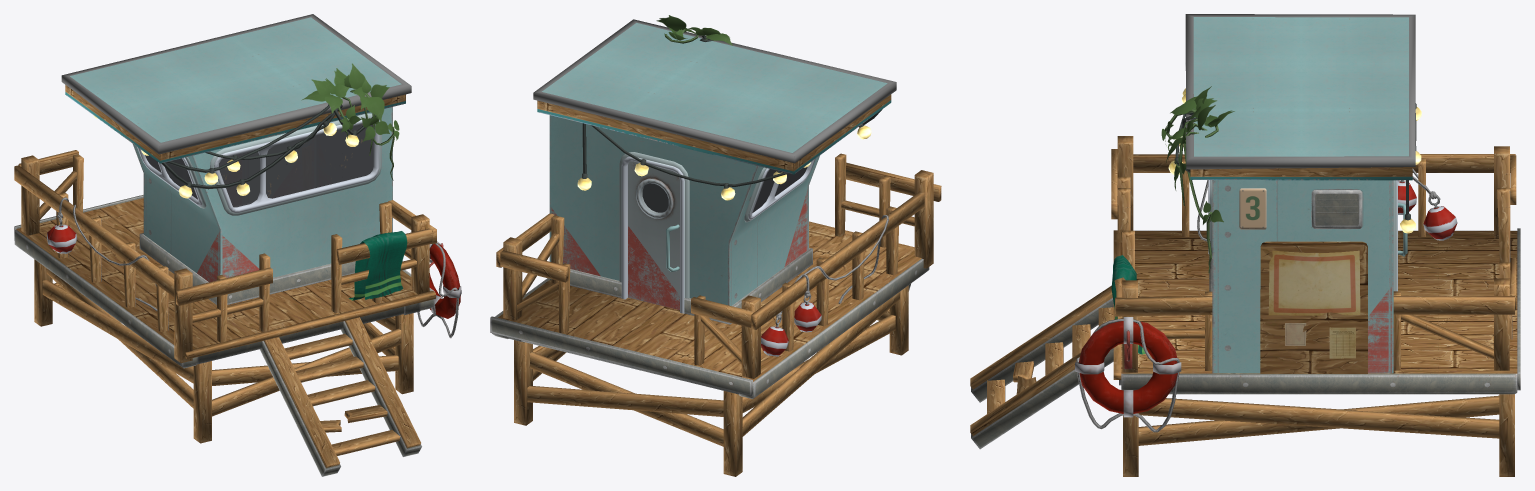
The model's file is lifeguard_tower.glb.
3 views of the same model, side by side, from view 1: azimuth 30°, elevation 25°; view 2: azimuth 150°, elevation 25°; view 3: azimuth 270°, elevation 25° (orthographic). The views are drawn at different scales.
Parts seen in each view (by area): view 1: Object_2, Object_3; view 2: Object_3, Object_2; view 3: Object_3, Object_2.
Part boxes in pixels (<box>): Object_2: <box>61,14,411,300</box>; Object_3: <box>14,150,461,476</box>; Object_3: <box>490,153,941,476</box>; Object_2: <box>533,15,896,313</box>; Object_3: <box>970,136,1520,476</box>; Object_2: <box>1111,14,1421,373</box>.
Bounding box in the file's own units: 0.5248 × 0.555 × 0.7589.
2 materials, 2 textured.
